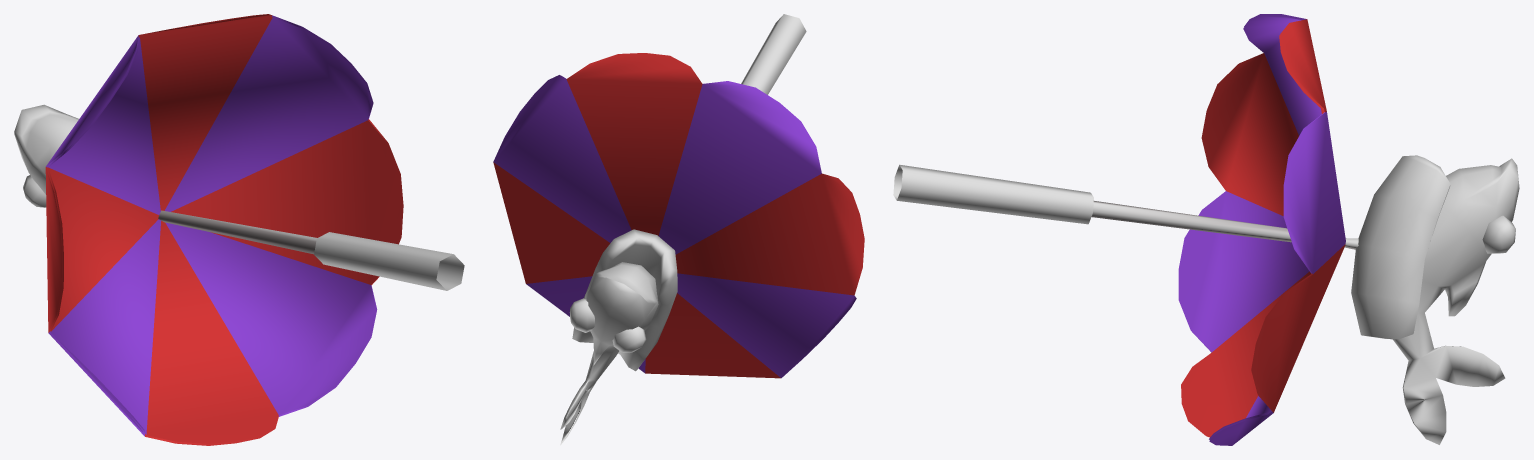
File: Umbrella.fbx
3 views of the same model, side by side, from view 1: azimuth 30°, elevation 25°; view 2: azimuth 150°, elevation 25°; view 3: azimuth 270°, elevation 25° (orthographic). The views are drawn at different scales.
Visible parts, largest first — view 1: Umbrella; view 2: Umbrella; view 3: Umbrella.
Part boxes in pixels (left/top/right/bottom): Umbrella: left=14, top=14, right=464, bottom=445; Umbrella: left=493, top=14, right=864, bottom=445; Umbrella: left=893, top=14, right=1519, bottom=445.
Bounding box in the file's own units: 200 × 201 × 292.
